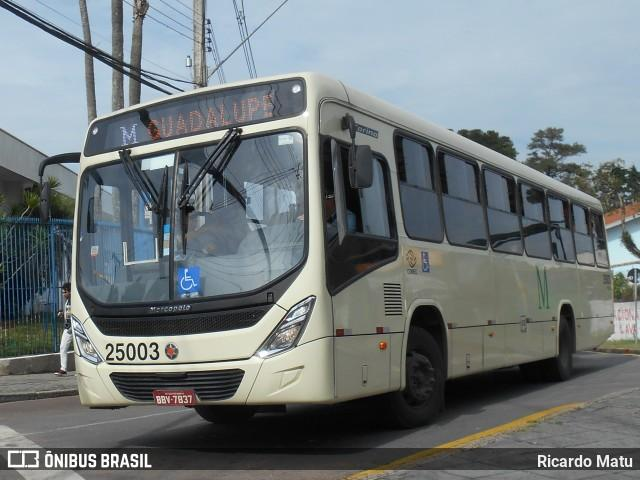GUADALUPE: (142, 88, 279, 144)
